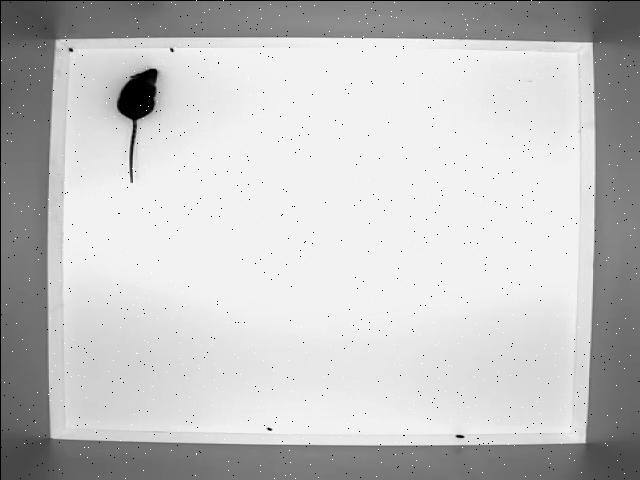Tikus: (112, 57, 158, 184)
